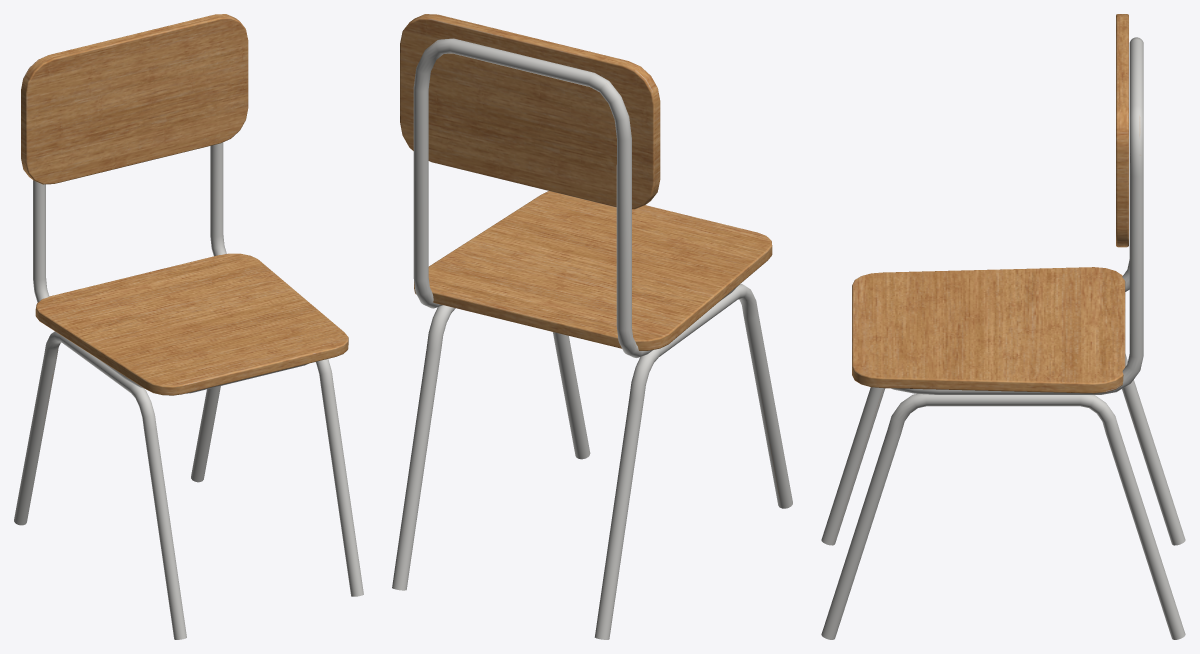
File: Chair.fbx
3 renders of one model, left to right at view 1: azimuth 30°, elevation 25°; view 2: azimuth 150°, elevation 25°; view 3: azimuth 270°, elevation 25°, orthographic. The views are drawn at different scales.
Visible parts, largest first — view 1: Backrest, Seat, Frame; view 2: Seat, Backrest, Frame; view 3: Seat, Frame, Backrest.
Boxes of the visible parts, x1,y1,x2,y2 form: Backrest: (21,14,248,184); Seat: (35,253,348,395); Frame: (14,142,363,639); Seat: (414,191,772,350); Backrest: (400,14,660,209); Frame: (392,38,792,639); Seat: (852,267,1125,393); Frame: (821,37,1185,639); Backrest: (1116,14,1128,247).
Size of the model in its own units: 33.58 by 69.8 by 43.54.
1 material, 1 textured.
